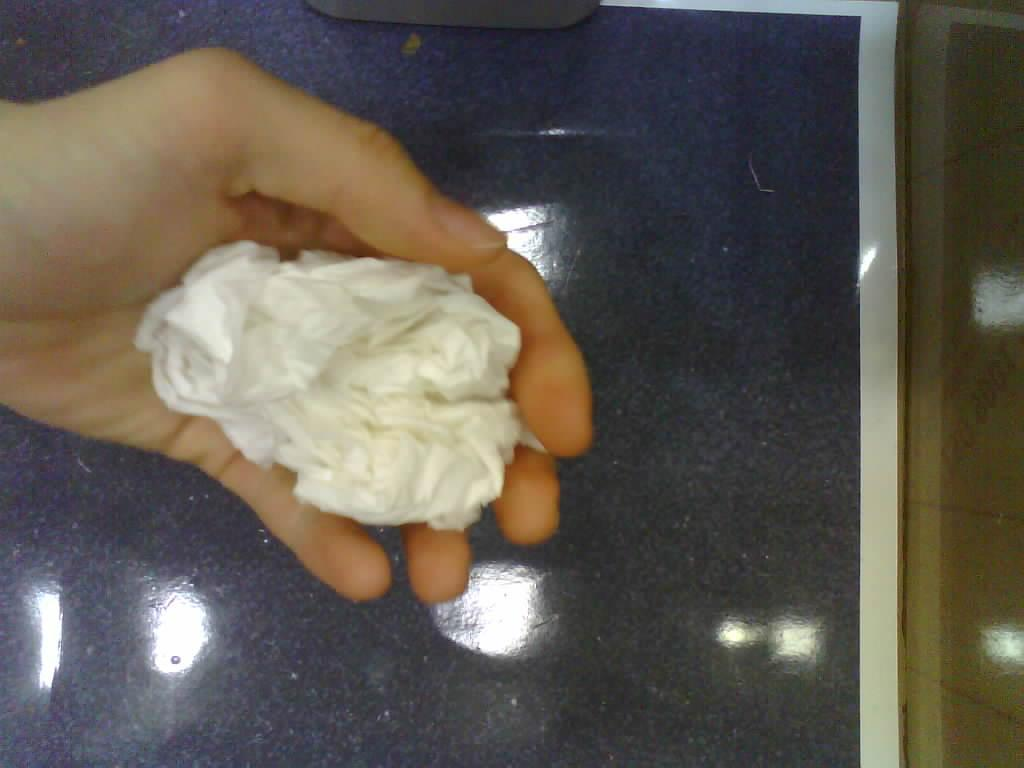paper: (136, 242, 542, 530)
